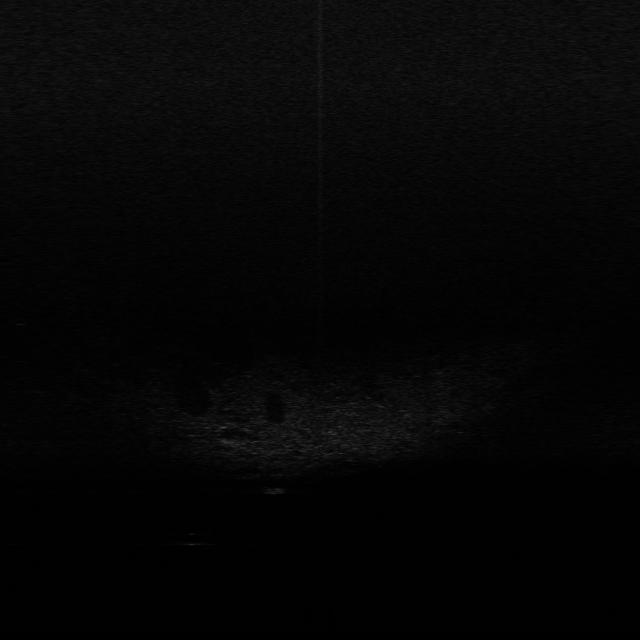ball: (181, 530, 203, 547)
cube: (259, 487, 293, 496)
